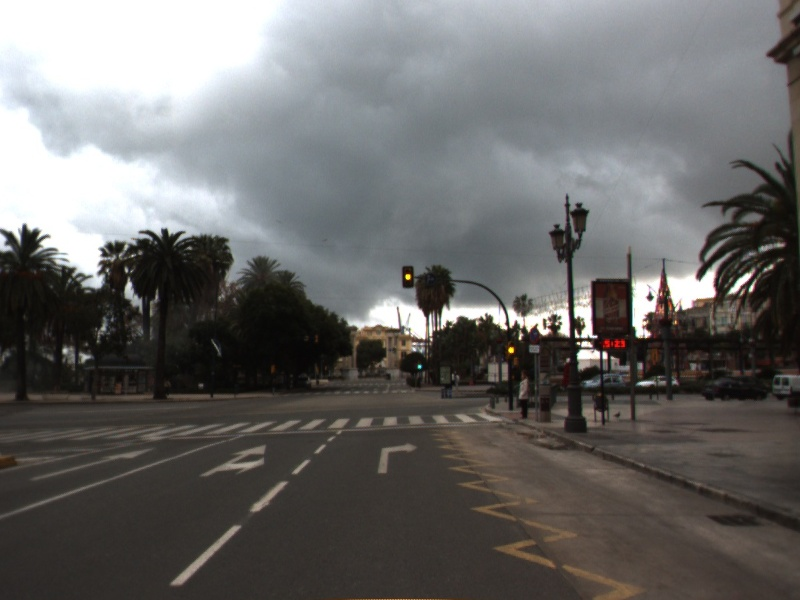RIGHT: (376, 440, 421, 476)
STRAIGHT: (27, 445, 158, 484)
STRAIGHT_RIGHT: (196, 442, 268, 479)
